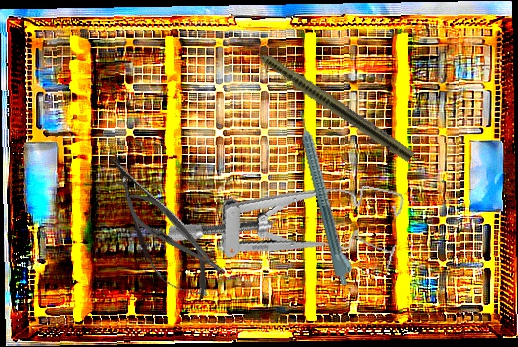Handpiece: (230, 30, 417, 164), (294, 107, 358, 287)
Micro Scissor: (89, 142, 225, 314)
Needle Holder: (114, 181, 234, 287)
Speculum: (166, 146, 407, 291)
